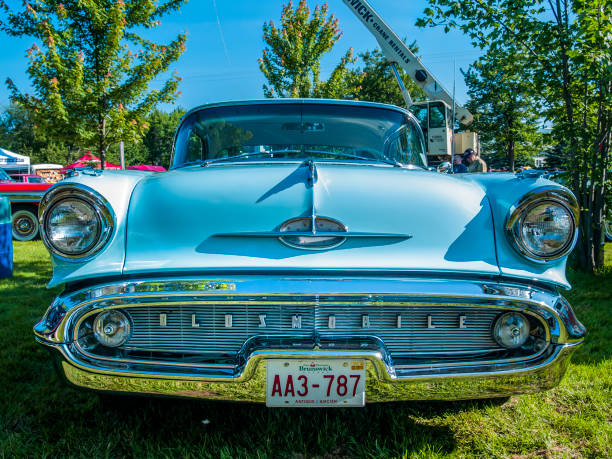licence: (265, 361, 363, 405)
